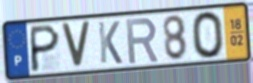8: (161, 13, 188, 63)
K: (96, 20, 124, 66)
O: (190, 10, 226, 61)
P: (29, 23, 62, 74)
R: (124, 16, 160, 65)
V: (59, 21, 92, 70)
